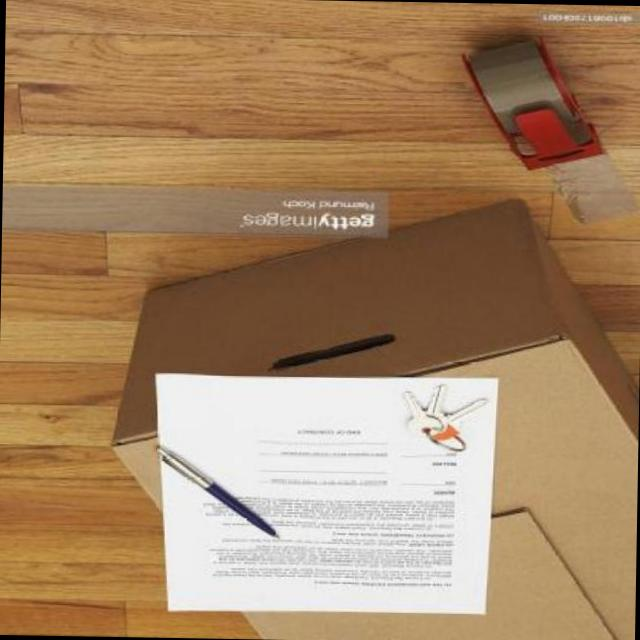box: (94, 178, 640, 640)
